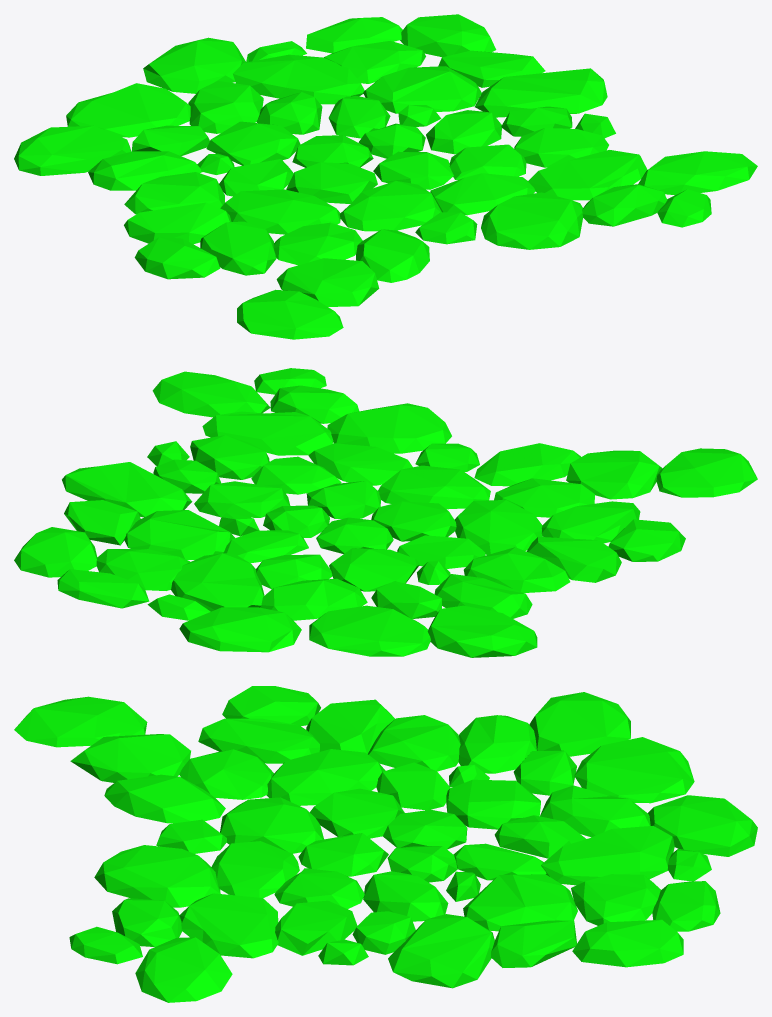
The model's file is SM_Ground_Pavement_A_Fantasy.fbx.
The picture shows the model from 3 angles, top to bottom: view 1: azimuth 30°, elevation 25°; view 2: azimuth 150°, elevation 25°; view 3: azimuth 270°, elevation 25°; orthographic projection. The views are drawn at different scales.
Parts seen in each view (by area): view 1: ground-pavement-a-fantasy; view 2: ground-pavement-a-fantasy; view 3: ground-pavement-a-fantasy.
Boxes of the visible parts, <box> form: ground-pavement-a-fantasy: <box>14,14,757,339</box>; ground-pavement-a-fantasy: <box>14,368,757,657</box>; ground-pavement-a-fantasy: <box>14,686,757,1002</box>.
Size of the model in its own units: 3.6 by 0.1044 by 3.66.
